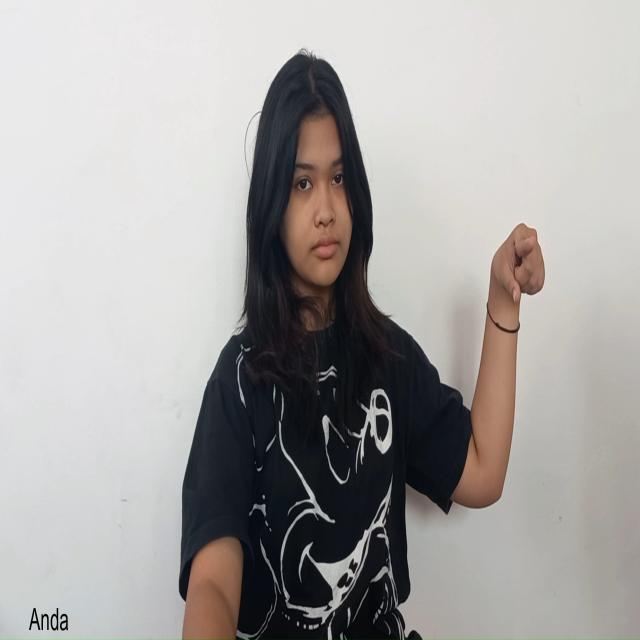Anda -BISINDO-: (488, 219, 547, 308)
